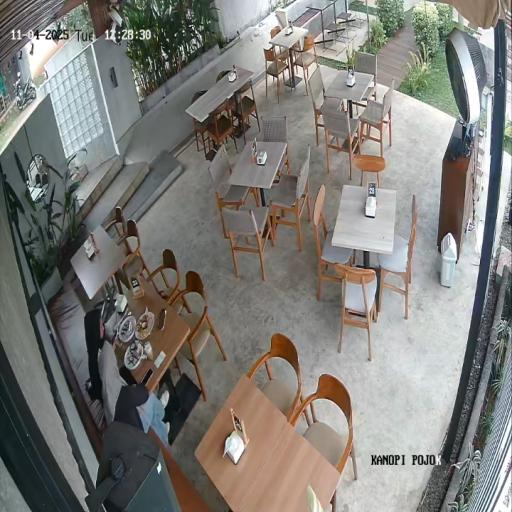Kursi: (172, 272, 227, 400), (291, 374, 357, 479), (247, 334, 302, 421), (378, 196, 417, 318), (313, 185, 353, 300), (271, 146, 311, 250), (335, 265, 376, 360), (222, 207, 273, 280), (209, 145, 250, 212), (360, 79, 394, 156), (308, 68, 342, 145), (323, 108, 359, 180), (117, 219, 150, 281), (259, 117, 290, 175), (148, 249, 180, 303), (233, 81, 260, 143), (208, 100, 237, 152), (264, 49, 290, 102), (355, 52, 376, 106), (294, 34, 317, 79), (354, 155, 385, 186), (105, 206, 126, 239), (194, 117, 211, 155)
